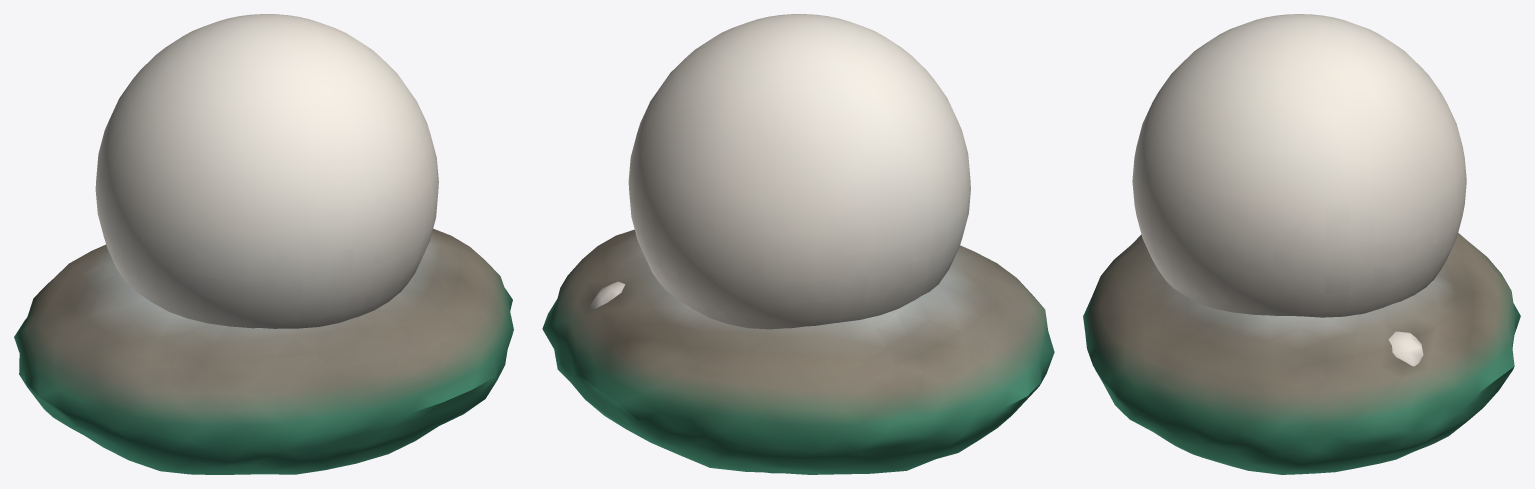
File: grotto_giant_pearl.glb
The picture shows the model from 3 angles, left to right: view 1: azimuth 30°, elevation 25°; view 2: azimuth 150°, elevation 25°; view 3: azimuth 270°, elevation 25°; orthographic projection. The views are drawn at different scales.
Parts seen in each view (by area): view 1: grotto_giant_pearl; view 2: grotto_giant_pearl; view 3: grotto_giant_pearl.
Part boxes in pixels (x1,y1,x2,y2): grotto_giant_pearl: [14, 14, 513, 474]; grotto_giant_pearl: [542, 14, 1054, 474]; grotto_giant_pearl: [1083, 14, 1520, 474].
Size of the model in its own units: 6.12 by 5.17 by 5.24.
